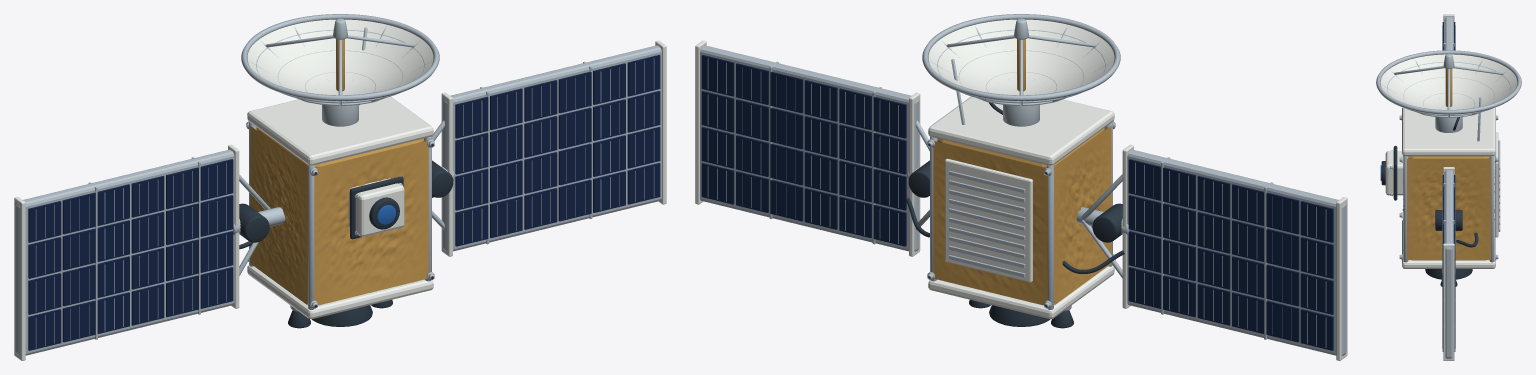
The model's file is satellite.glb.
3 views of the same model, side by side, from view 1: azimuth 30°, elevation 25°; view 2: azimuth 150°, elevation 25°; view 3: azimuth 270°, elevation 25° (orthographic). The views are drawn at different scales.
Visible parts, largest first — view 1: Photovoltaic cell, Corner strut, Bus end plate, Gold spacecraft bus, Thruster; view 2: Photovoltaic cell, Corner strut, Bus end plate, Gold spacecraft bus, Thruster; view 3: Bus end plate, Gold spacecraft bus, Corner strut, Thruster, Photovoltaic cell.
Boxes of the visible parts, x1,y1,x2,y2 form: Photovoltaic cell: (28,55,660,350); Corner strut: (15,14,661,355); Bus end plate: (14,19,666,360); Gold spacecraft bus: (250,39,428,305); Thruster: (239,104,453,328); Photovoltaic cell: (701,55,1333,350); Corner strut: (700,14,1346,355); Bus end plate: (695,19,1347,360); Gold spacecraft bus: (933,39,1111,305); Thruster: (905,102,1124,328); Bus end plate: (1380,14,1517,360); Gold spacecraft bus: (1402,69,1494,260); Corner strut: (1376,17,1521,358); Thruster: (1381,117,1478,286); Photovoltaic cell: (1442,22,1455,351).
Size of the model in its own units: 5.21 by 2.26 by 1.38.
